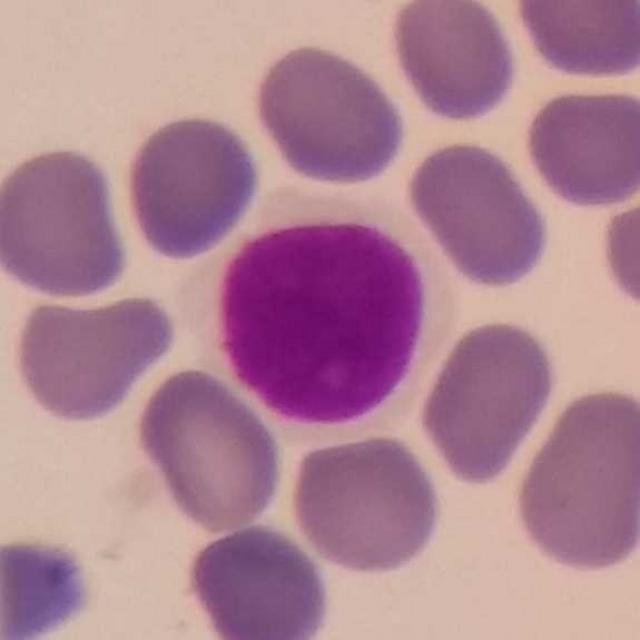Lymphocyte: (179, 186, 464, 444)
Platelets: (0, 532, 98, 640)
RBC: (132, 363, 288, 534), (507, 381, 640, 577), (414, 314, 561, 489), (5, 287, 182, 426), (248, 39, 411, 189), (403, 134, 554, 292), (287, 429, 445, 578), (118, 109, 265, 263), (0, 140, 135, 304), (180, 518, 333, 640), (385, 0, 522, 126), (520, 81, 640, 213), (508, 0, 640, 84), (0, 532, 98, 640), (595, 162, 640, 320)
